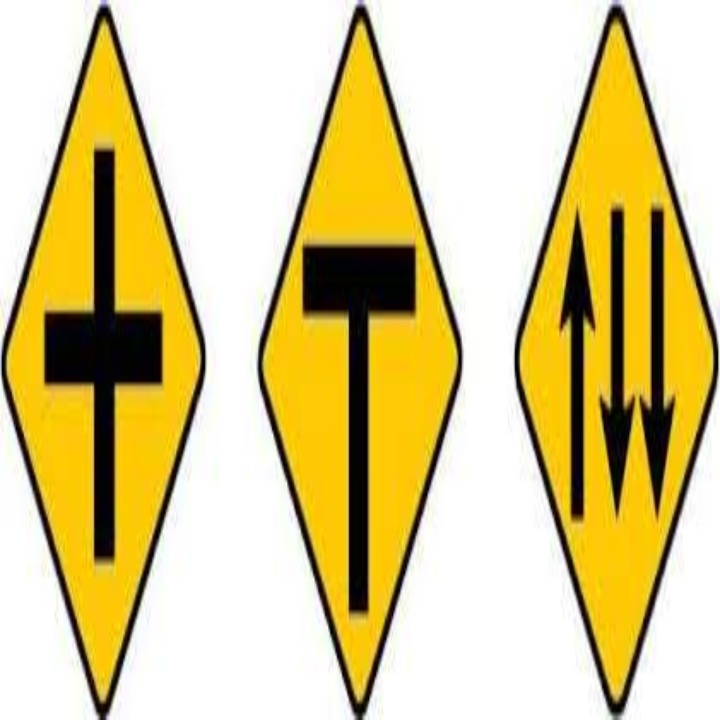inter: (36, 137, 166, 583)
